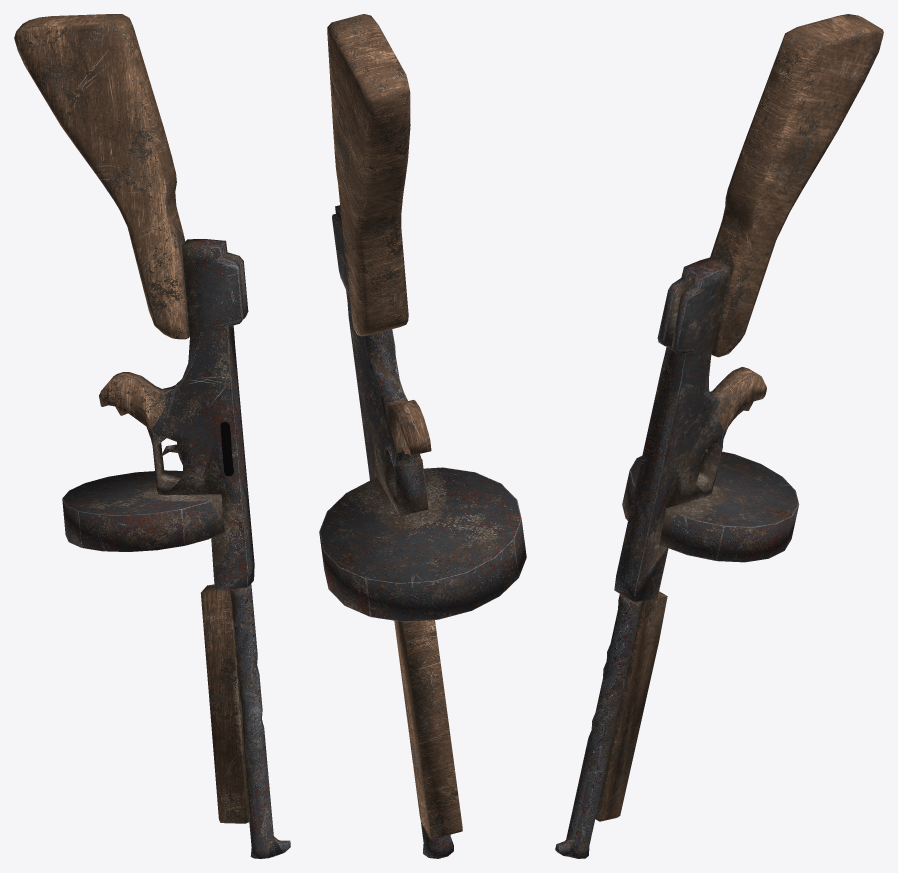
File: Anim_idle_ametralladora_objetos.0036.obj
3 views of the same model, side by side, from view 1: azimuth 30°, elevation 25°; view 2: azimuth 150°, elevation 25°; view 3: azimuth 270°, elevation 25° (orthographic). The views are drawn at different scales.
Visible parts, largest first — view 1: Ametralladora1; view 2: Ametralladora1; view 3: Ametralladora1.
Boxes of the visible parts, x1,y1,x2,y2 form: Ametralladora1: [14, 14, 290, 858]; Ametralladora1: [319, 14, 526, 858]; Ametralladora1: [555, 14, 883, 858].
Size of the model in its own units: 1.25 by 5.86 by 2.18.
